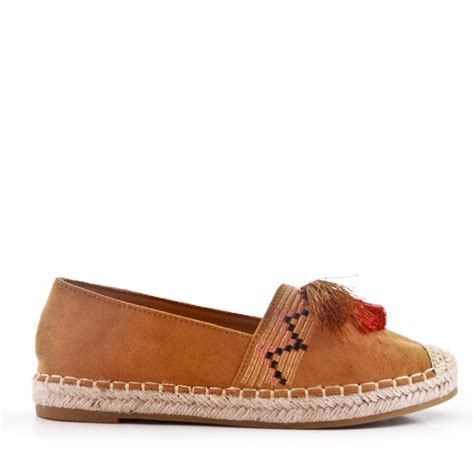gamuza: (30, 278, 437, 388)
